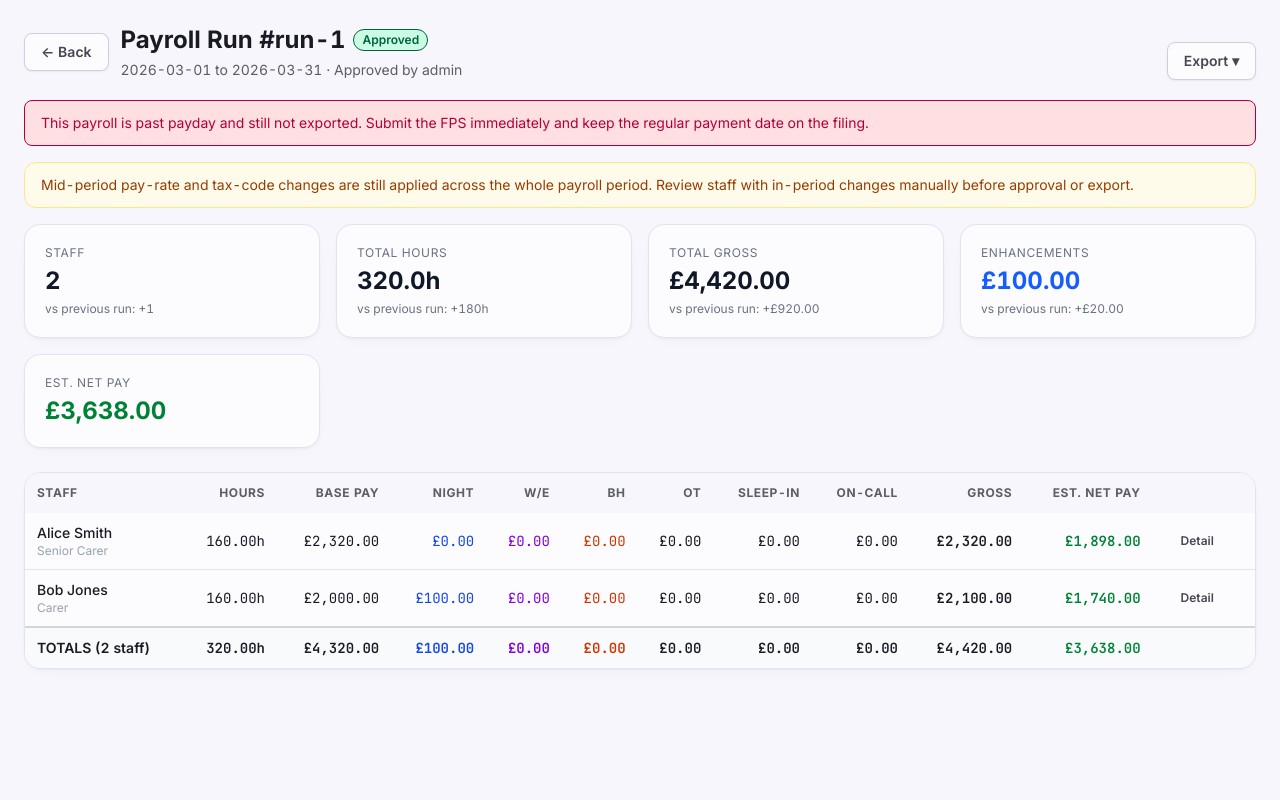
Test: PayrollDetail › does not mark a run exported when the CSV download fails
This screenshot has width=1280, height=800.
What coordinates should you click on to do the following:
click the button "Export ▾"
I would click on:
 (1211, 61)
Its box is [1167,42,1256,80].
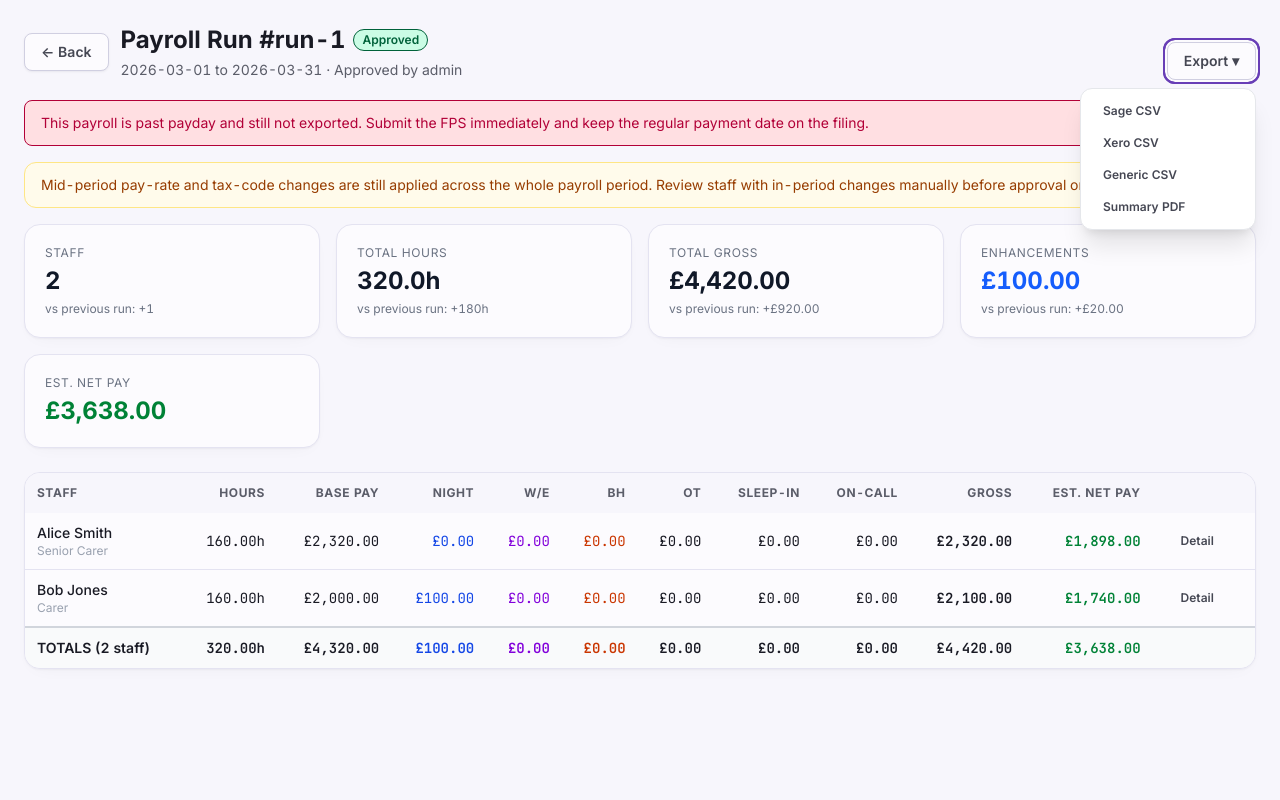
What coordinates should you click on to do the following:
click the button "Generic CSV"
I would click on:
 (1168, 175)
Its box is [1087,159,1249,191].
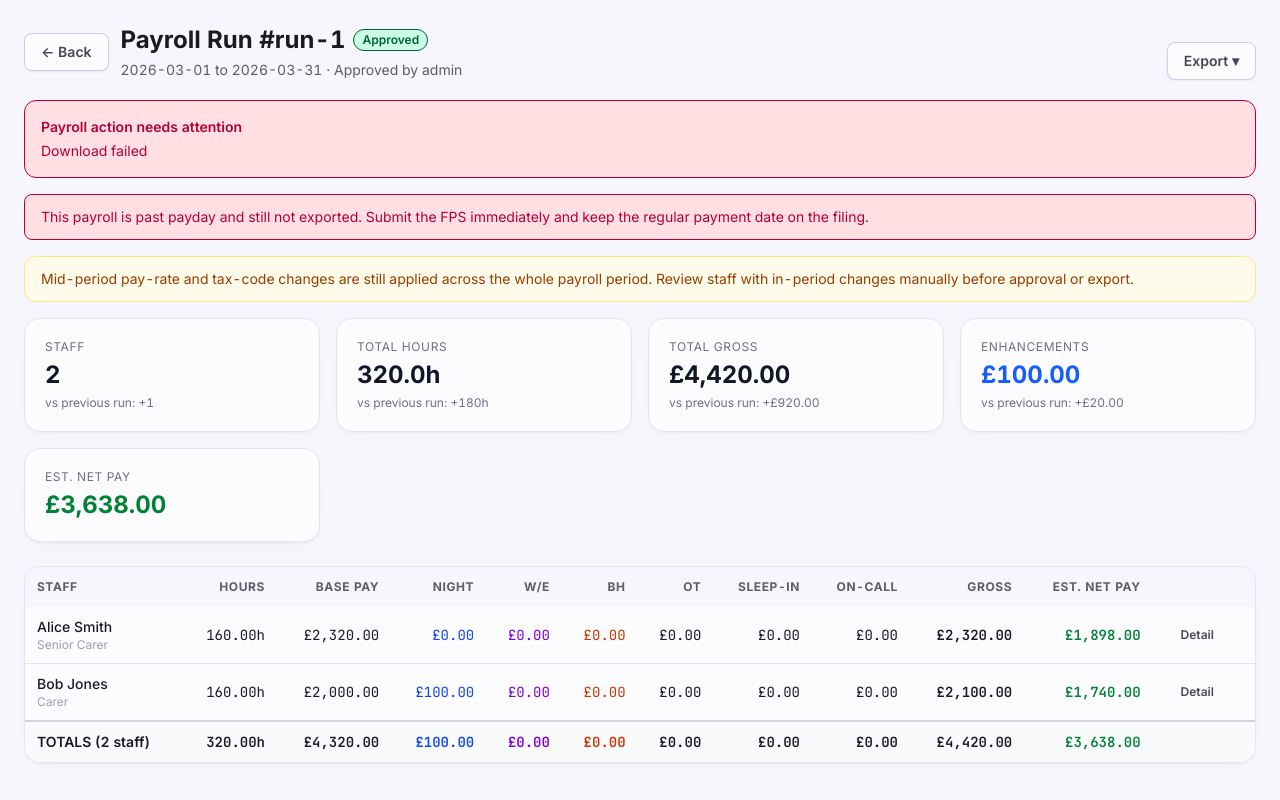
Check: the text "Payroll action needs attention" is shown, box [41,117,242,137]
